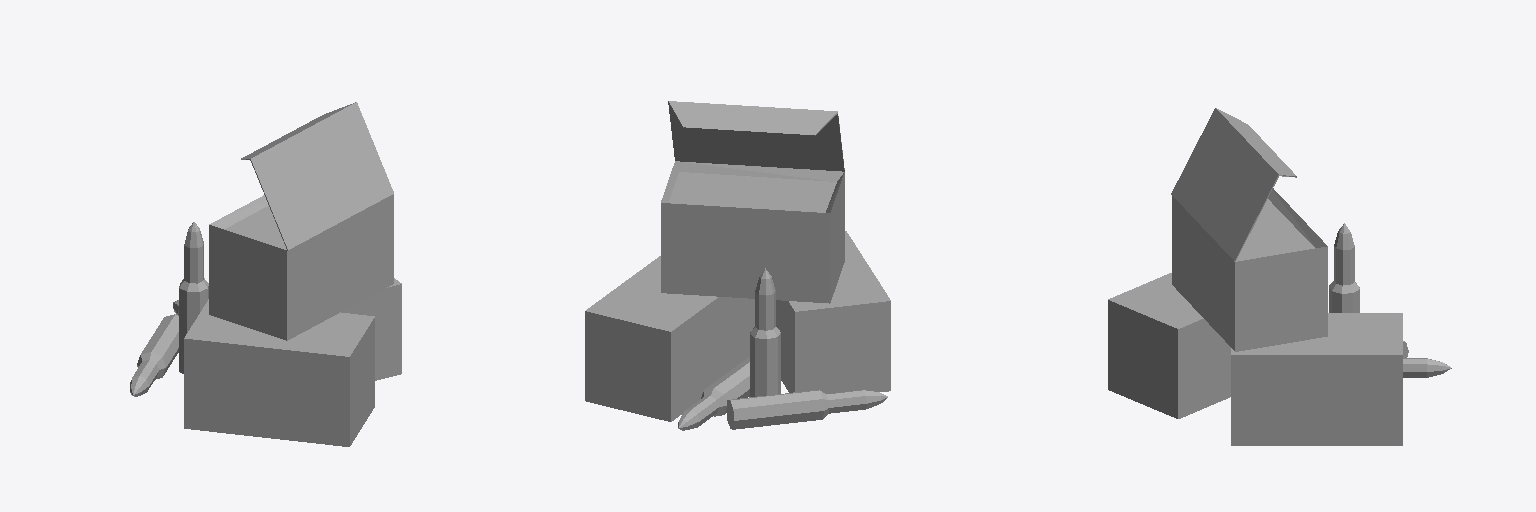
The model's file is Fire_bullet.obj.
The picture shows the model from 3 angles: view 1: azimuth 30°, elevation 25°; view 2: azimuth 150°, elevation 25°; view 3: azimuth 270°, elevation 25°; orthographic projection.
Visible parts, largest first — view 1: 10.0.422.0; view 2: 10.0.422.0; view 3: 10.0.422.0.
Boxes of the visible parts, x1=… form: 10.0.422.0: x1=130, y1=102, x2=401, y2=446; 10.0.422.0: x1=585, y1=101, x2=890, y2=430; 10.0.422.0: x1=1108, y1=108, x2=1451, y2=445.
Bounding box in the file's own units: 10.06 × 10.26 × 12.31.